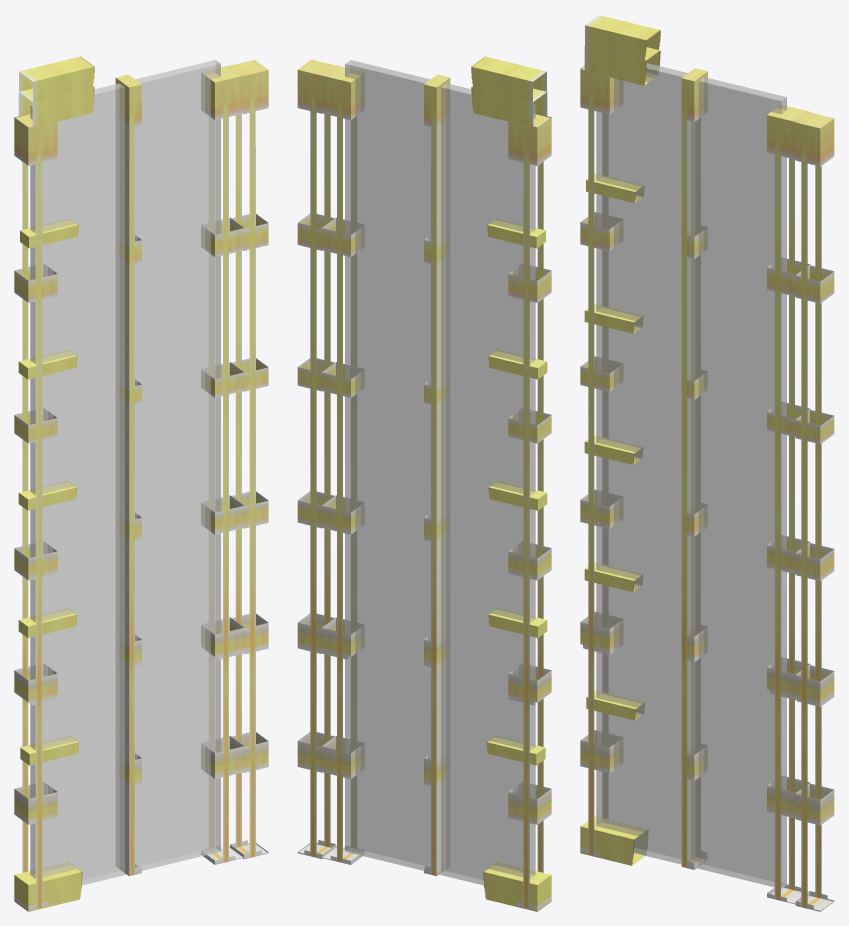
The model's file is patioSideDoor.obj.
3 views of the same model, side by side, from view 1: azimuth 30°, elevation 25°; view 2: azimuth 150°, elevation 25°; view 3: azimuth 330°, elevation 25° (orthographic).
Visible parts, largest first — view 1: sweethome3d_window_pane, Cube_4, Cube_7, Cube_7_1, frame, frame_1, Cube_8_1, Cube_8, Cube_10_3, Cube_10_1, Cube_10_2, Cube_10_4 (+1 smaller); view 2: sweethome3d_window_pane, Cube_4, Cube_7, Cube_7_1, frame, frame_1, Cube_8_1, Cube_8, Cube_10_3, Cube_10_1, Cube_10_2, Cube_10_4 (+1 smaller); view 3: sweethome3d_window_pane, Cube_4, frame, Cube_7, Cube_7_1, frame_1, Cube_8_1, Cube_8, Cube_10_4, Cube_10_1, Cube_10_2, Cube_10_3 (+1 smaller).
Part boxes in pixels (x1=…): sweethome3d_window_pane: x1=30, y1=60, x2=220, y2=885; Cube_4: x1=115, y1=74, x2=141, y2=876; Cube_7: x1=14, y1=114, x2=57, y2=910; Cube_7_1: x1=201, y1=65, x2=244, y2=864; frame: x1=230, y1=59, x2=268, y2=859; frame_1: x1=19, y1=56, x2=94, y2=101; Cube_8_1: x1=14, y1=862, x2=82, y2=911; Cube_8: x1=14, y1=86, x2=94, y2=128; Cube_10_3: x1=18, y1=608, x2=77, y2=637; Cube_10_1: x1=18, y1=350, x2=77, y2=379; Cube_10_2: x1=18, y1=481, x2=77, y2=510; Cube_10_4: x1=20, y1=736, x2=78, y2=765; sweethome3d_window_pane: x1=345, y1=60, x2=535, y2=885; Cube_4: x1=424, y1=74, x2=450, y2=876; Cube_7: x1=508, y1=114, x2=551, y2=910; Cube_7_1: x1=321, y1=65, x2=364, y2=864; frame: x1=297, y1=59, x2=336, y2=858; frame_1: x1=471, y1=56, x2=546, y2=101; Cube_8_1: x1=483, y1=862, x2=551, y2=911; Cube_8: x1=471, y1=86, x2=551, y2=128; Cube_10_3: x1=488, y1=608, x2=547, y2=637; Cube_10_1: x1=488, y1=350, x2=547, y2=379; Cube_10_2: x1=488, y1=481, x2=547, y2=510; Cube_10_4: x1=487, y1=736, x2=545, y2=765; sweethome3d_window_pane: x1=596, y1=63, x2=786, y2=888; Cube_4: x1=681, y1=68, x2=707, y2=869; frame: x1=795, y1=112, x2=834, y2=911; Cube_7: x1=580, y1=67, x2=623, y2=858; Cube_7_1: x1=767, y1=105, x2=810, y2=904; frame_1: x1=585, y1=15, x2=660, y2=60; Cube_8_1: x1=580, y1=816, x2=648, y2=865; Cube_8: x1=580, y1=46, x2=660, y2=85; Cube_10_4: x1=586, y1=690, x2=644, y2=720; Cube_10_1: x1=584, y1=304, x2=642, y2=333; Cube_10_2: x1=584, y1=435, x2=642, y2=464; Cube_10_3: x1=584, y1=562, x2=642, y2=592.
Size of the model in its own units: 4.51 by 14.87 by 0.4622.
